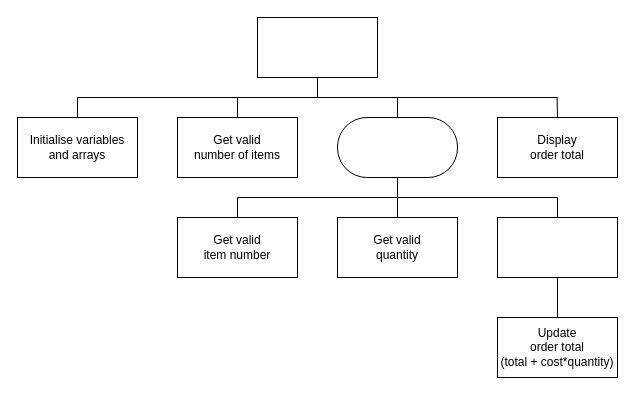
Image size: 635x395. Some labels were removed from this diagram. The shapes that lost their labels are listed below. From the top down, each one's centre as x and y in pixels, then its label:
point 317,47: Homework Calculator
point 397,147: Loop for each item
point 557,247: Look up cost
